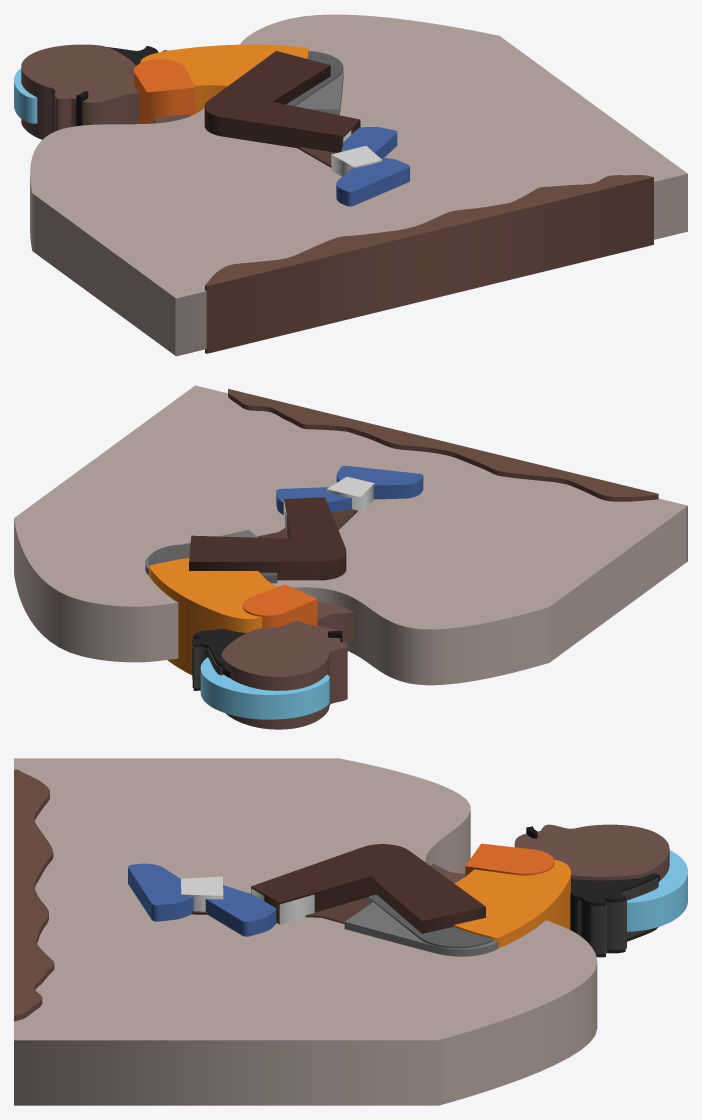
The model's file is emoji_u1f6b5_1f3ff.glb.
3 renders of one model, top to bottom at view 1: azimuth 30°, elevation 25°; view 2: azimuth 150°, elevation 25°; view 3: azimuth 270°, elevation 25°, orthographic. The views are drawn at different scales.
Visible parts, largest first — view 1: emoji_u1f6b5_1f3ff; view 2: emoji_u1f6b5_1f3ff; view 3: emoji_u1f6b5_1f3ff.
Boxes of the visible parts, left/top/right/bottom form: emoji_u1f6b5_1f3ff: left=14, top=14, right=687, bottom=356; emoji_u1f6b5_1f3ff: left=14, top=385, right=687, bottom=729; emoji_u1f6b5_1f3ff: left=14, top=758, right=687, bottom=1105.
Size of the model in its own units: 0.0333 by 0.006 by 0.0336.
